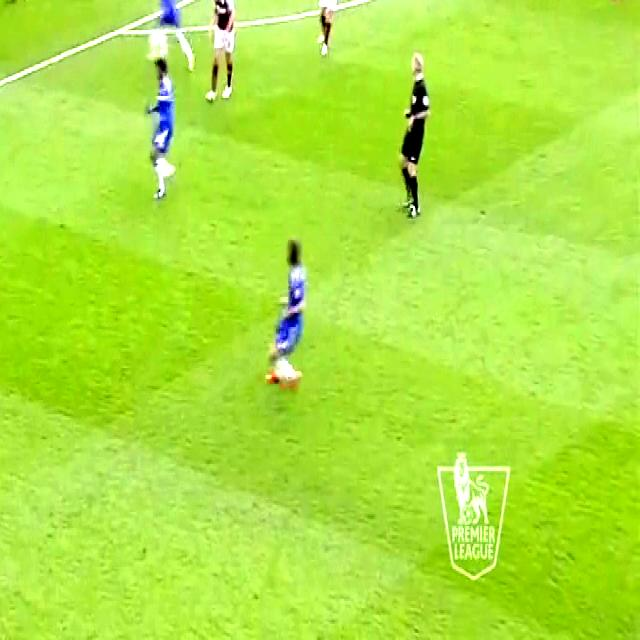referee: (394, 29, 432, 224)
soccer-player: (259, 224, 315, 391), (145, 50, 183, 204), (205, 0, 243, 110), (144, 0, 193, 73), (311, 0, 350, 64), (0, 0, 30, 9), (596, 0, 637, 4)
